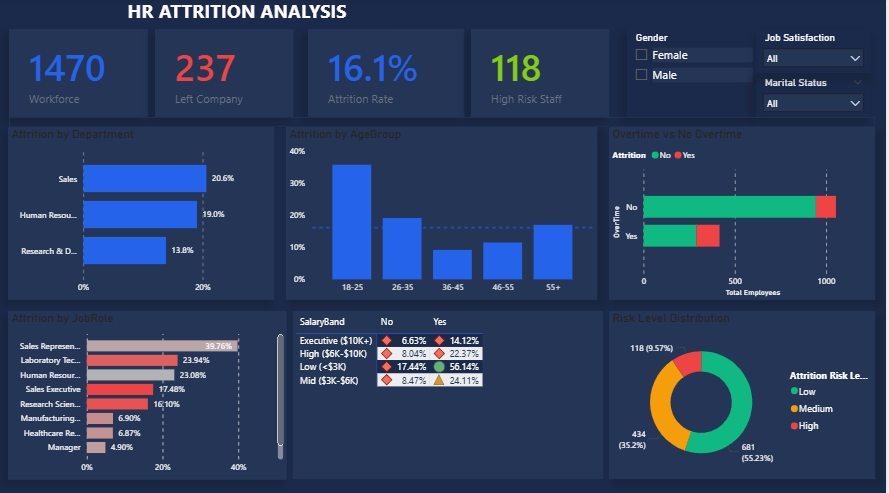

This screenshot's page, from the dashboard's own definition file:
{"tool":"powerbi","page":{"name":"Executive Summary","canvas":[1280,720],"ordinal":0},"visuals":[{"type":"cardVisual","title":"workforce","fields":{"Data":["hr_clean.Total Employees"]},"box":[13,44.8,201,127.2],"z":0},{"type":"cardVisual","fields":{"Data":["hr_clean.Attrition Rate %"]},"box":[445.3,44.8,225.5,127.2],"z":1000},{"type":"cardVisual","fields":{"Data":["hr_clean.Total Attritions"]},"box":[224.1,44.8,199.5,127.2],"z":2000},{"type":"cardVisual","fields":{"Data":["hr_clean.High Risk Count"]},"box":[681,44.8,199.5,127.2],"z":3000},{"type":"clusteredBarChart","title":"Attrition by Department","fields":{"Category":["hr_clean.Department"],"Y":["hr_clean.Attrition Rate"]},"box":[11.8,186.5,384.7,250.3],"z":4000},{"type":"clusteredColumnChart","title":"Attrition by AgeGroup","fields":{"Category":["hr_clean.AgeGroup"],"Y":["hr_clean.Attrition Rate"]},"box":[413.2,186.5,450.2,250.3],"z":5000},{"type":"clusteredBarChart","title":"Attrition by JobRole","fields":{"Category":["hr_clean.JobRole"],"Y":["hr_clean.Attrition Rate"]},"box":[11.8,451.9,403.1,243.6],"z":6000},{"type":"slicer","fields":{"Values":["hr_clean.Gender"]},"box":[906.5,44.8,186.5,127.2],"z":7000},{"type":"slicer","fields":{"Values":["hr_clean.MaritalStatus"]},"box":[1093,109.9,166.3,62.2],"z":8000},{"type":"barChart","title":"Overtime vs No Overtime","fields":{"Category":["hr_clean.OverTime"],"Y":["hr_clean.Total Employees"],"Series":["hr_clean.Attrition"]},"box":[880.2,186.5,384.7,250.3],"z":9000},{"type":"textbox","title":"HR ATTRITION ANALYSIS","box":[179.3,0,378.8,44.8],"z":10000},{"type":"donutChart","title":"Risk Level Distribution","fields":{"Category":["hr_clean.AttritionRiskLevel"],"Y":["hr_clean.Active Employees"]},"box":[880.5,452.5,384.6,242.9],"z":11000},{"type":"pivotTable","fields":{"Rows":["hr_clean.SalaryBand"],"Columns":["hr_clean.OverTime"],"Values":["hr_clean.Attrition Rate"]},"box":[423.6,452.5,448.2,242.9],"z":12000},{"type":"slicer","fields":{"Values":["hr_clean.JobSatisfactionLabel"]},"box":[1093,44.8,166.3,63.6],"z":13000},{"type":"shape","box":[13,172,1252,14.5],"z":14000}]}

Visuals, with their boxes in screenshot pixels (x1, y1, x2, y2), scaled from the page's 1280x720 canvas onto the 889x493 screenshot:
"workforce" cardVisual: (9, 31, 149, 118)
cardVisual - hr_clean.Attrition Rate %: (309, 31, 466, 118)
cardVisual - hr_clean.Total Attritions: (156, 31, 294, 118)
cardVisual - hr_clean.High Risk Count: (473, 31, 612, 118)
"Attrition by Department" clusteredBarChart: (8, 128, 275, 299)
"Attrition by AgeGroup" clusteredColumnChart: (287, 128, 600, 299)
"Attrition by JobRole" clusteredBarChart: (8, 309, 288, 476)
slicer - hr_clean.Gender: (630, 31, 759, 118)
slicer - hr_clean.MaritalStatus: (759, 75, 875, 118)
"Overtime vs No Overtime" barChart: (611, 128, 879, 299)
"HR ATTRITION ANALYSIS" textbox: (125, 0, 388, 31)
"Risk Level Distribution" donutChart: (612, 310, 879, 476)
pivotTable - hr_clean.SalaryBand x hr_clean.OverTime: (294, 310, 605, 476)
slicer - hr_clean.JobSatisfactionLabel: (759, 31, 875, 74)
shape: (9, 118, 879, 128)
